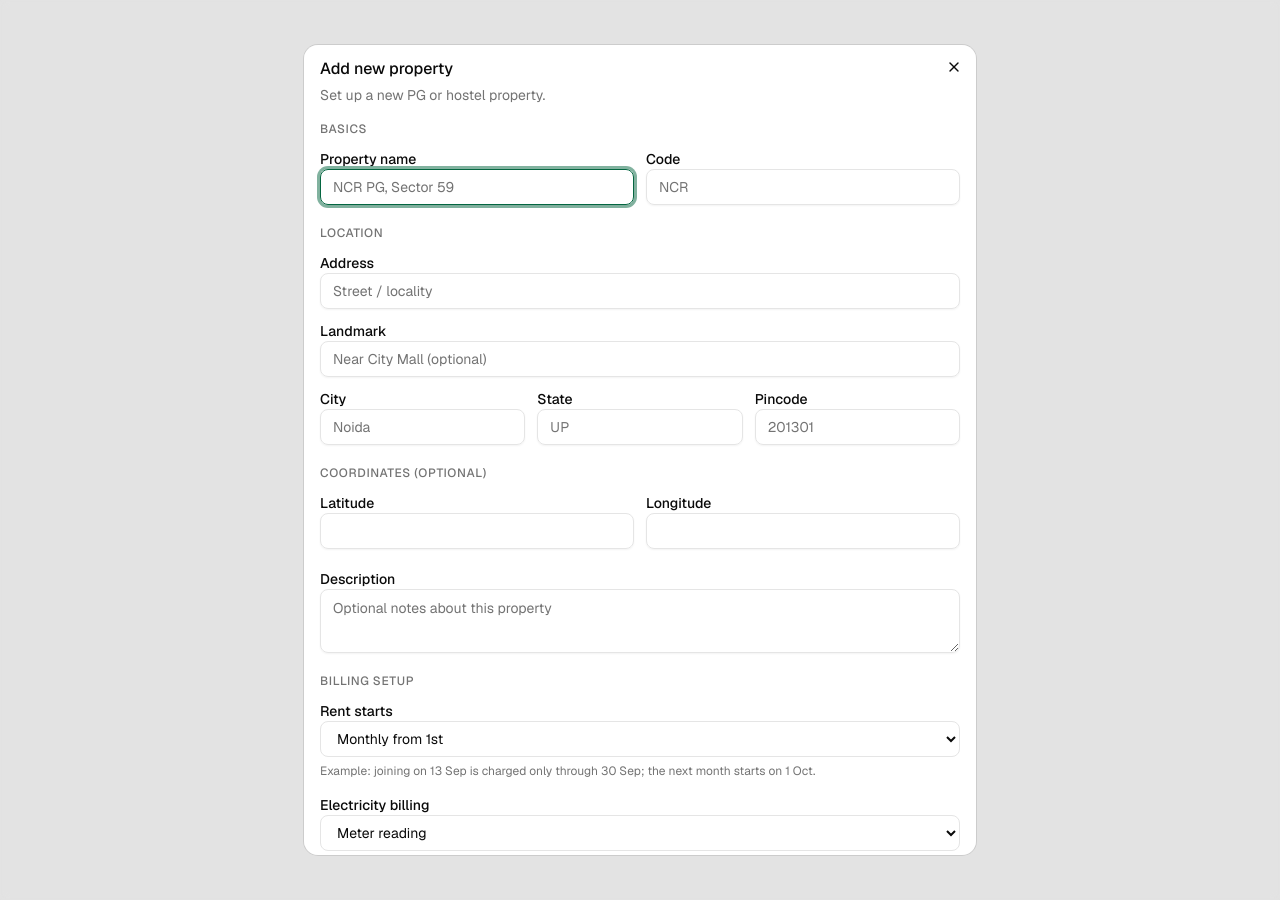
Test: AddPropertyModal billing setup › defaults to meter billing and requires a positive unit rate
The width and height of the screenshot is (1280, 900).
expect the dropdown below "Rent starts" shows "Monthly from 1st": met, box [320,721,960,757]
expect the dropdown below "Electricity billing" shows "Meter reading": met, box [320,815,960,851]
Type "Sunrise PG" into the field with placeholder "NCR PG, Sector 59".
click(477, 187); type("Sunrise PG")  # box [320,169,634,205]
(page scrolled)
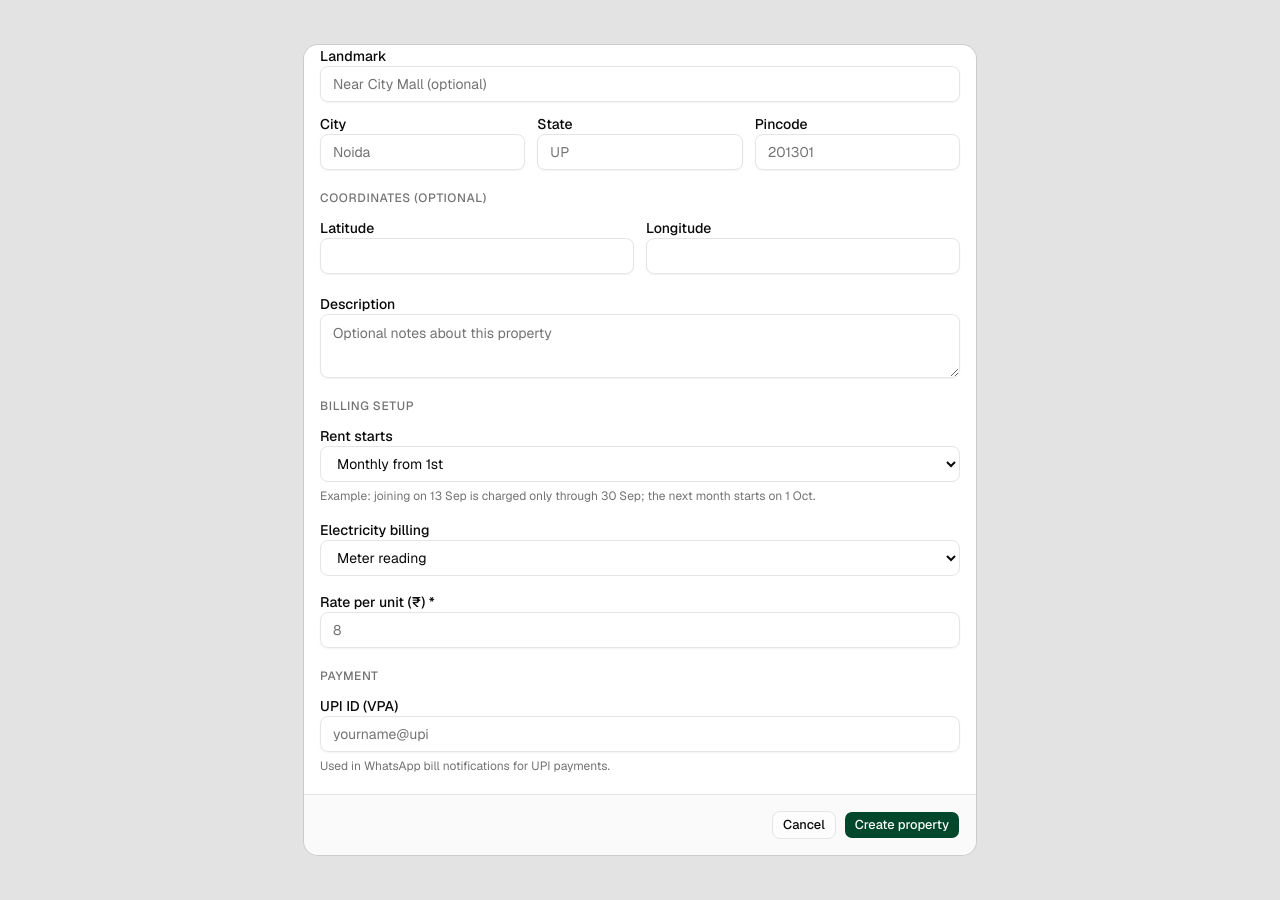
Click the button "Create property".
click(902, 825)  # box [844,811,960,839]
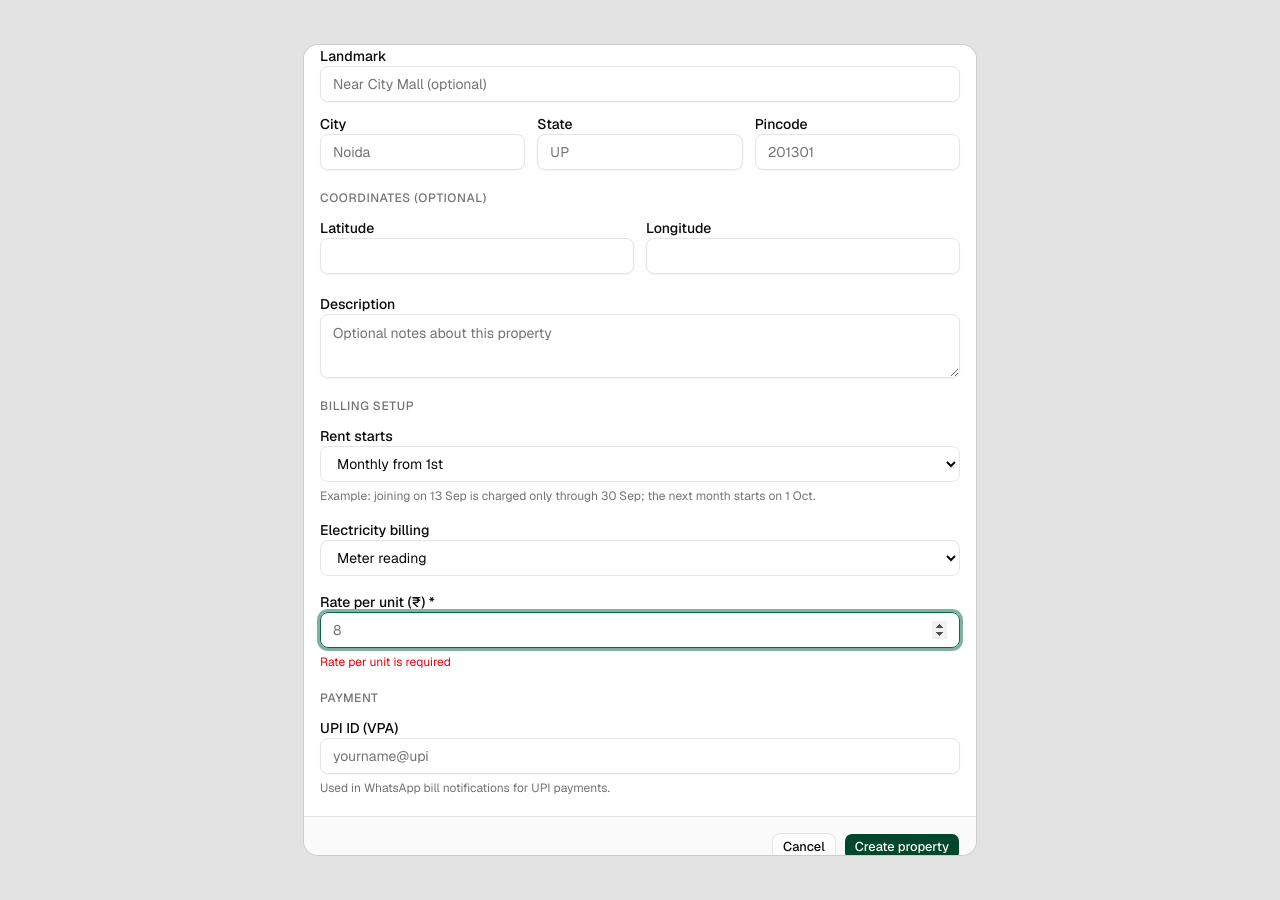
expect the text "Rate per unit is required" is shown: met, box [320,654,451,670]
